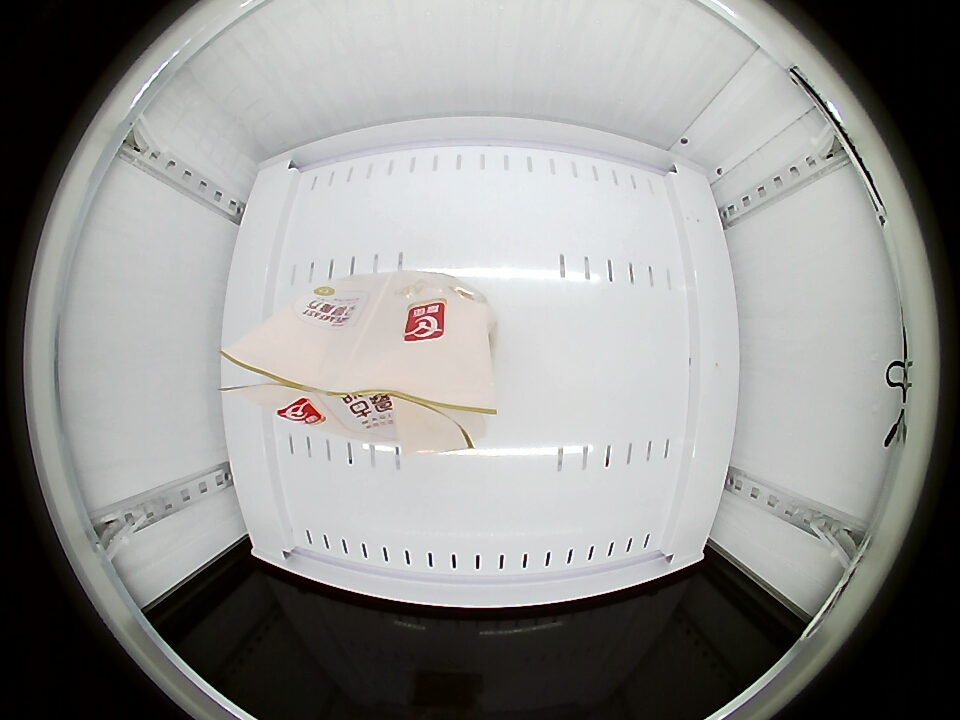zaocanmofang: (253, 276, 494, 437)
